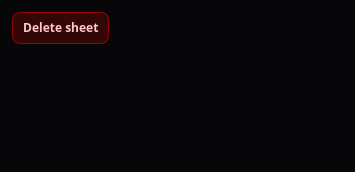
Scenario: ConfirmButton › only runs the action after an explicit second press
Later steps or results of the test are not shown.
Click the button "Delete sheet".
click(61, 28)  # box [12,12,109,44]
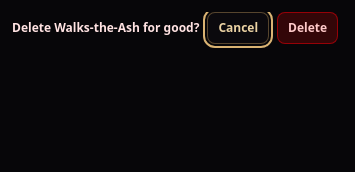
Check: the text "Delete Walks-the-Ash for good?" is shown, box [12,20,199,36]
